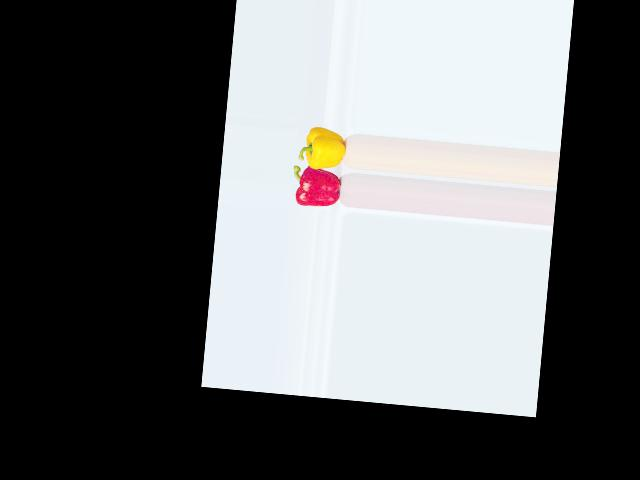bell_pepper: (291, 164, 347, 213)
